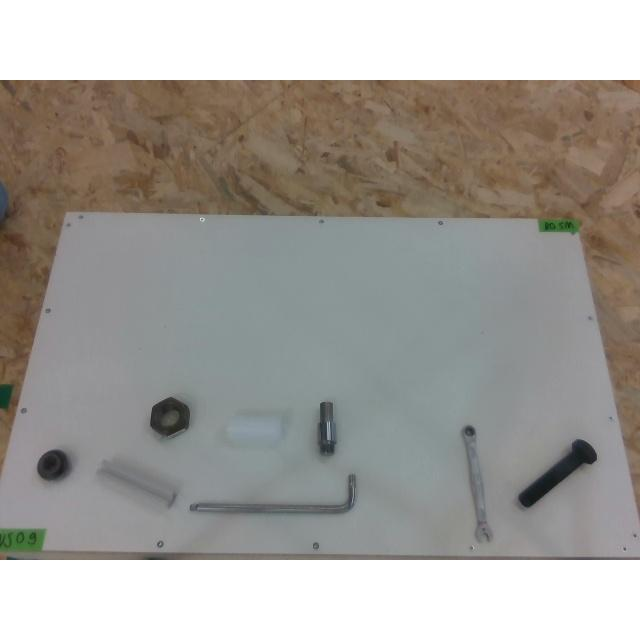AllenKey: (189, 474, 355, 514)
Axis2: (316, 401, 336, 455)
Bearing2: (37, 448, 69, 479)
F20_20_G: (98, 459, 178, 507)
M20_100: (518, 439, 596, 507)
M30: (150, 397, 190, 437)
Spacer: (225, 408, 287, 444)
Wrench: (462, 426, 492, 542)
